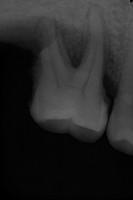Dental Caries: (56, 20, 89, 67), (11, 15, 44, 57)
